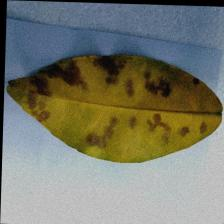black spot: (28, 65, 174, 139)
